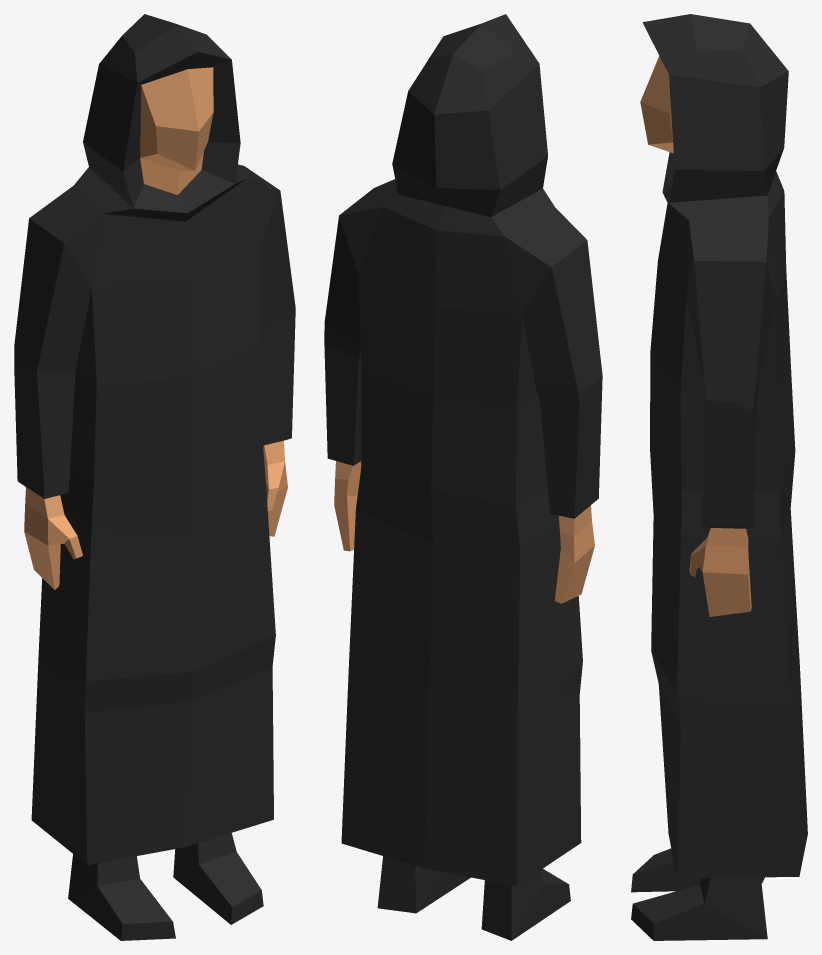
File: man-cult.glb
The picture shows the model from 3 angles, left to right: view 1: azimuth 30°, elevation 25°; view 2: azimuth 150°, elevation 25°; view 3: azimuth 270°, elevation 25°; orthographic projection. The views are drawn at different scales.
Parts seen in each view (by area): view 1: man-cult; view 2: man-cult; view 3: man-cult.
Part boxes in pixels (x1,y1,x2,y2): man-cult: (14,14,295,940); man-cult: (324,14,602,940); man-cult: (631,14,807,940).
Size of the model in its own units: 0.5689 by 1.84 by 0.3309.
1 material, 1 textured.
